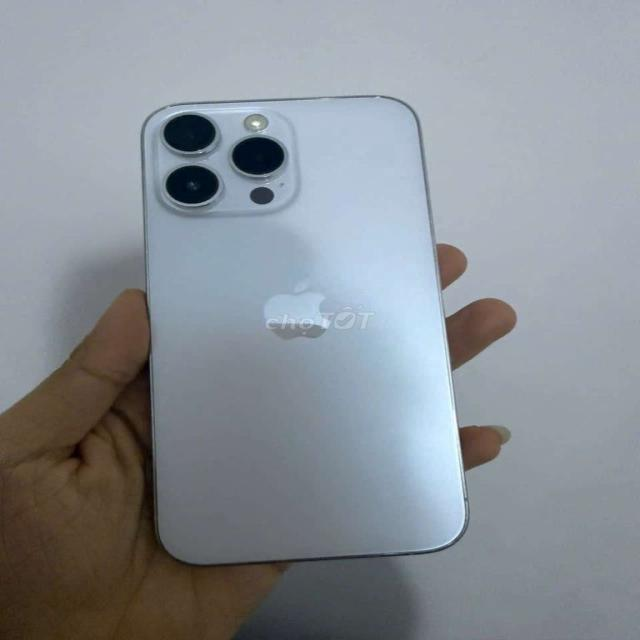gen_14: (147, 90, 482, 562)
